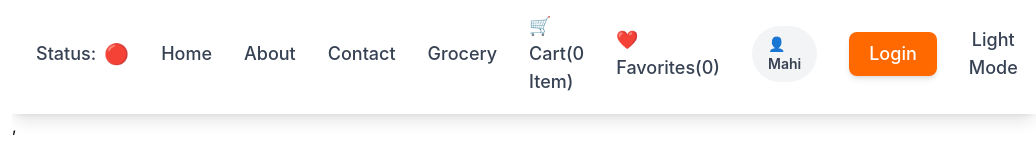
Test: should have logout after click
Step 1. Click the button "Login" → (893, 54), box [849,32,937,76]
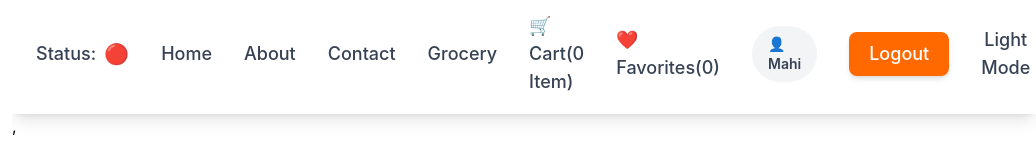
Result: the button "Logout" is shown at [849,32,949,76]
